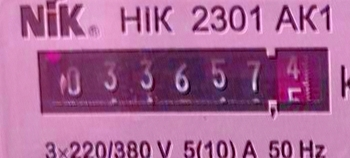0: (64, 63, 85, 100)
3: (102, 59, 121, 94), (138, 58, 156, 93)
4: (285, 53, 304, 83)
5: (208, 56, 230, 92)
6: (172, 61, 192, 96)
7: (245, 58, 263, 94)
screen: (26, 41, 339, 123)
